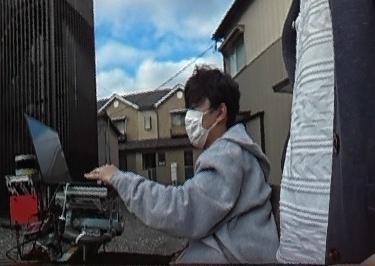person: (174, 66, 275, 266)
